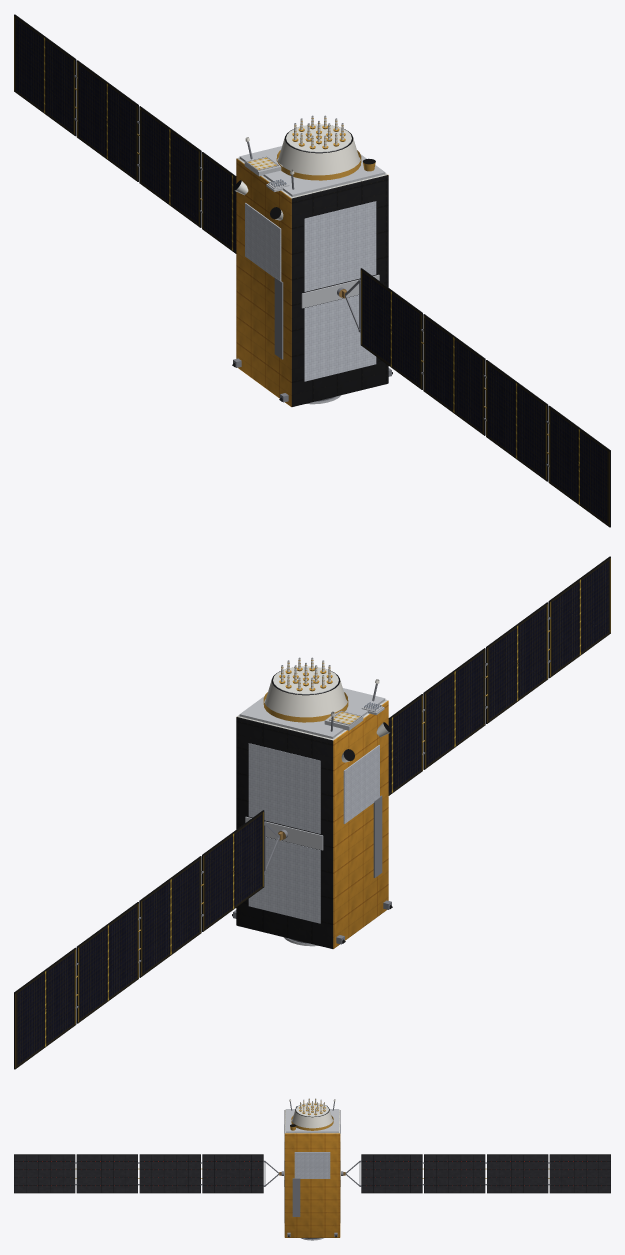
Rendered from qzss-qzs1.glb.
3 views of the same model, one above another, from view 1: azimuth 30°, elevation 25°; view 2: azimuth 150°, elevation 25°; view 3: azimuth 270°, elevation 25° (orthographic). The views are drawn at different scales.
Visible parts, largest first — view 1: bus, wing-Y, wing+Y, payload_deck; view 2: bus, wing+Y, wing-Y, payload_deck; view 3: wing+Y, wing-Y, bus, payload_deck.
Part boxes in pixels (left/top/right/bottom): bus: left=232, top=157, right=392, bottom=406; wing-Y: left=342, top=268, right=610, bottom=527; wing+Y: left=14, top=14, right=236, bottom=253; payload_deck: left=239, top=115, right=385, bottom=196; bus: left=232, top=699, right=392, bottom=948; wing+Y: left=14, top=810, right=282, bottom=1069; wing-Y: left=388, top=556, right=610, bottom=795; payload_deck: left=239, top=657, right=385, bottom=738; wing+Y: left=343, top=1154, right=610, bottom=1193; wing-Y: left=14, top=1154, right=281, bottom=1193; bus: left=284, top=1109, right=340, bottom=1240; payload_deck: left=286, top=1098, right=338, bottom=1132.
Size of the model in its own units: 2.85 by 6.21 by 25.3.
Materials: 18 (7 with a texture image).
